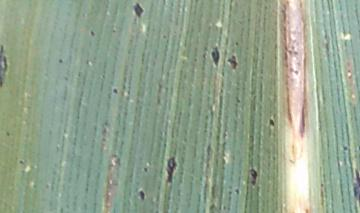tarspot: (1, 43, 10, 90), (164, 155, 178, 184), (351, 168, 360, 201), (210, 45, 221, 68), (225, 53, 239, 70), (131, 2, 145, 18), (248, 168, 258, 186), (137, 189, 146, 201), (267, 118, 277, 127), (111, 87, 120, 95), (341, 144, 349, 151), (89, 29, 95, 37), (234, 40, 240, 48), (235, 96, 241, 104), (18, 159, 25, 165), (142, 166, 148, 173), (233, 188, 240, 194), (58, 206, 64, 213), (221, 203, 227, 210), (57, 57, 63, 63), (5, 130, 10, 136), (192, 56, 197, 62), (161, 34, 167, 39), (110, 29, 116, 33)
